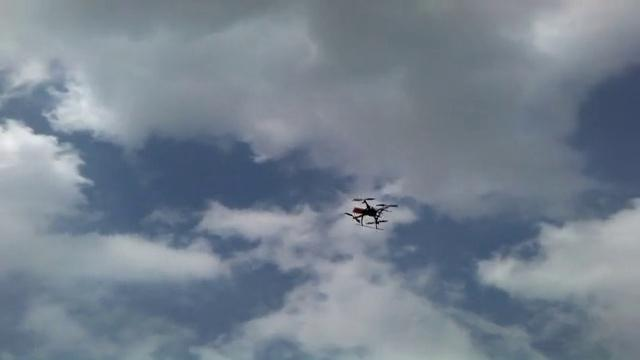drone: (342, 194, 398, 230)
